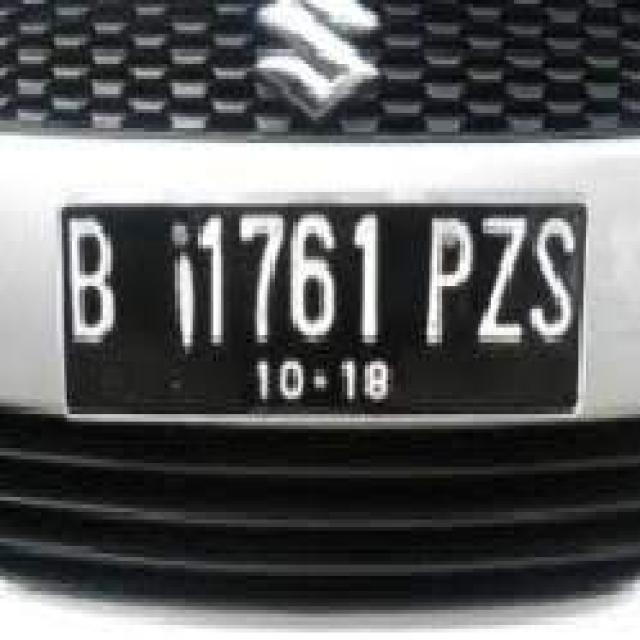license-plat: (46, 150, 611, 477)
